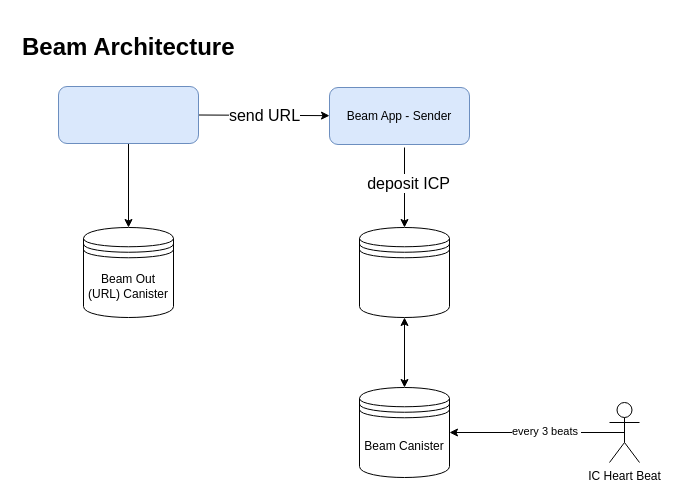
Some shapes in this 678 by 500 pixel diagram are drawn without their labels. Each missing label, with the box of its shape:
Beam App - Receiver: (58, 86, 198, 144)
Escrow Payment Pool Canister: (358, 226, 450, 318)
